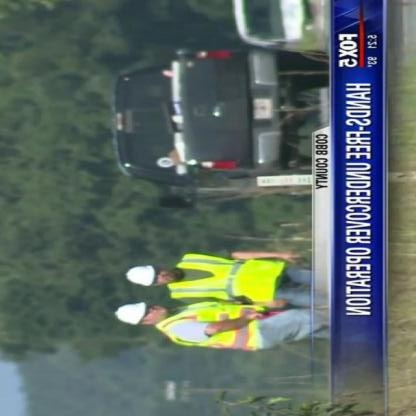vest: (165, 249, 286, 303), (156, 299, 268, 355)
white: (114, 298, 151, 326), (124, 264, 158, 288)
